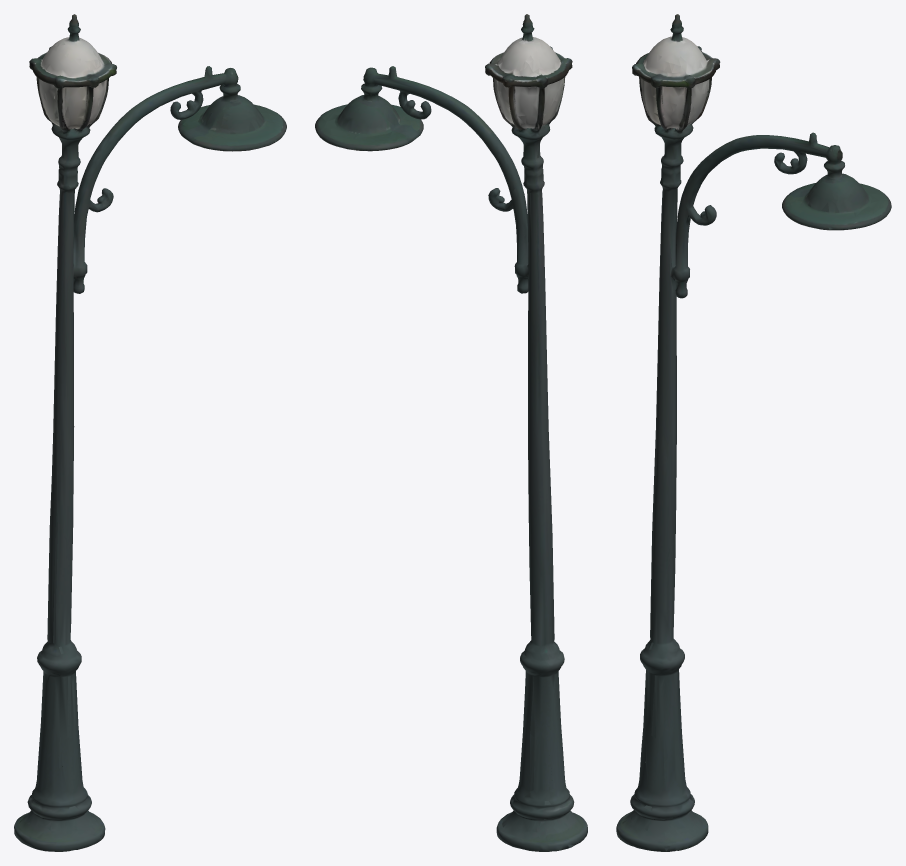
The model's file is lamp.glb.
The picture shows the model from 3 angles, left to right: view 1: azimuth 30°, elevation 25°; view 2: azimuth 150°, elevation 25°; view 3: azimuth 330°, elevation 25°; orthographic projection.
Parts seen in each view (by area): view 1: tripo_node_09490bbf; view 2: tripo_node_09490bbf; view 3: tripo_node_09490bbf.
Boxes of the visible parts, x1,y1,x2,y2 form: tripo_node_09490bbf: (14, 14, 286, 851); tripo_node_09490bbf: (315, 14, 587, 851); tripo_node_09490bbf: (616, 14, 891, 851).
Bounding box in the file's own units: 0.3321 × 1 × 0.1206.
1 material, 1 textured.
